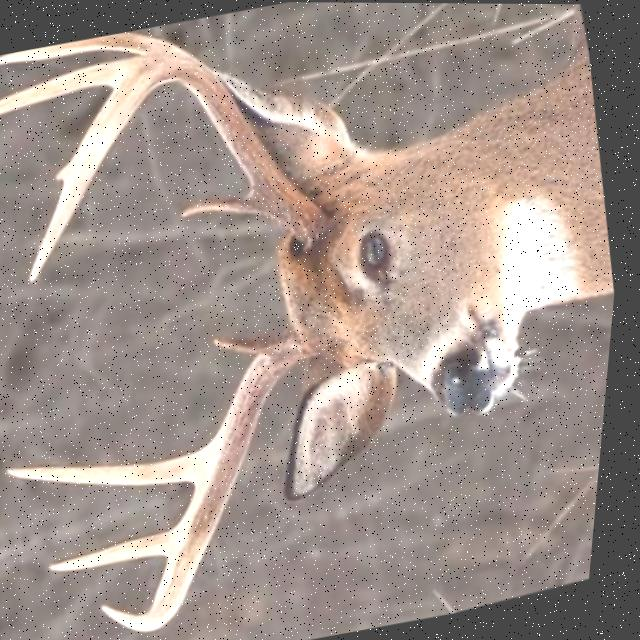L-F: (31, 48, 332, 285)
L-G1: (182, 191, 272, 219)
R-G1: (218, 337, 286, 355)
R-G2: (15, 448, 211, 485)
R-G3: (59, 531, 178, 572)
